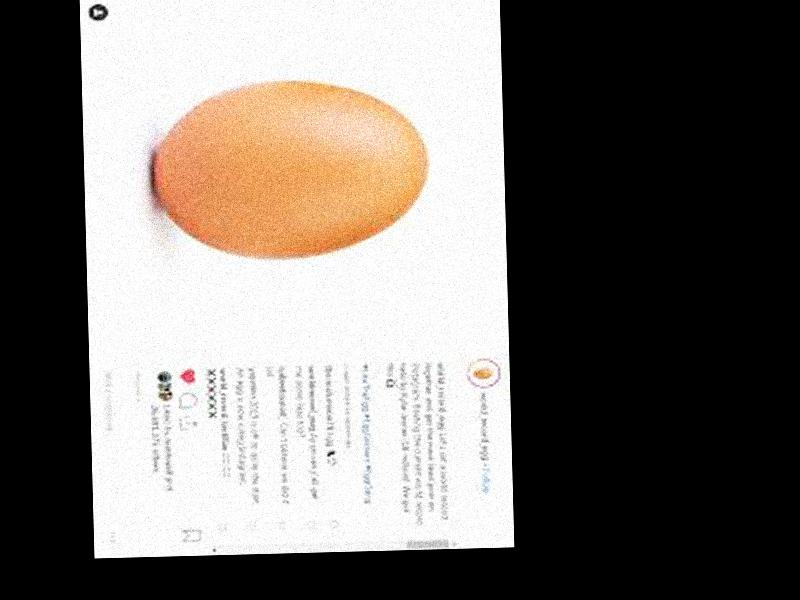Eggs: (153, 77, 429, 262)
